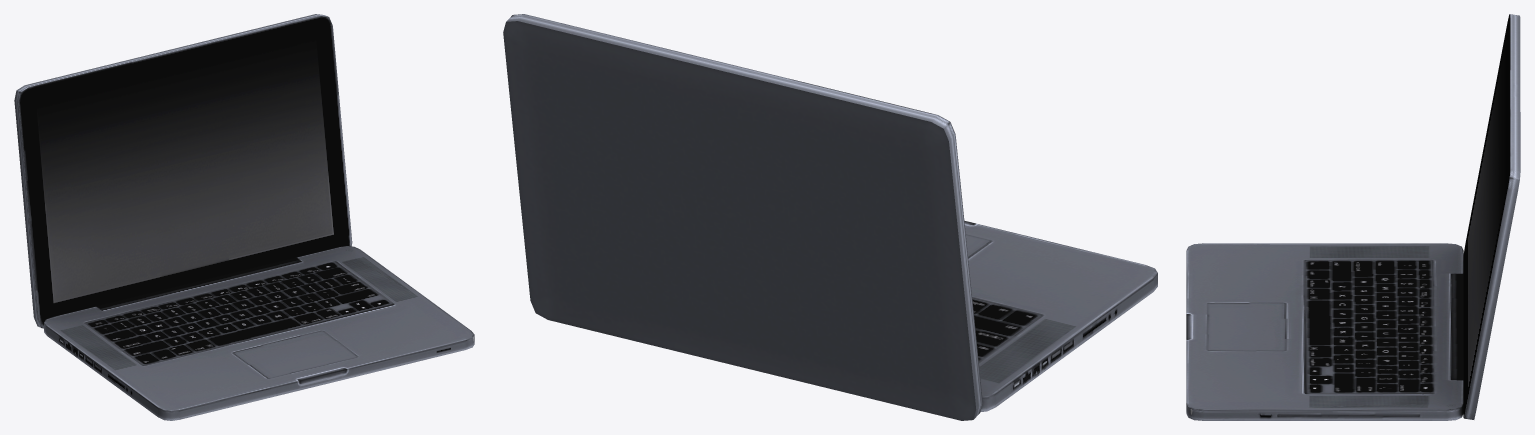
Rendered from Laptop.FBX.
3 renders of one model, left to right at view 1: azimuth 30°, elevation 25°; view 2: azimuth 150°, elevation 25°; view 3: azimuth 270°, elevation 25°, orthographic. The views are drawn at different scales.
Visible parts, largest first — view 1: Laptop; view 2: Laptop; view 3: Laptop.
Part boxes in pixels (bbox=[...]): Laptop: bbox=[14, 14, 474, 420]; Laptop: bbox=[503, 14, 1157, 420]; Laptop: bbox=[1186, 14, 1520, 420].
Bounding box in the file's own units: 52.53 × 44.34 × 36.71.
